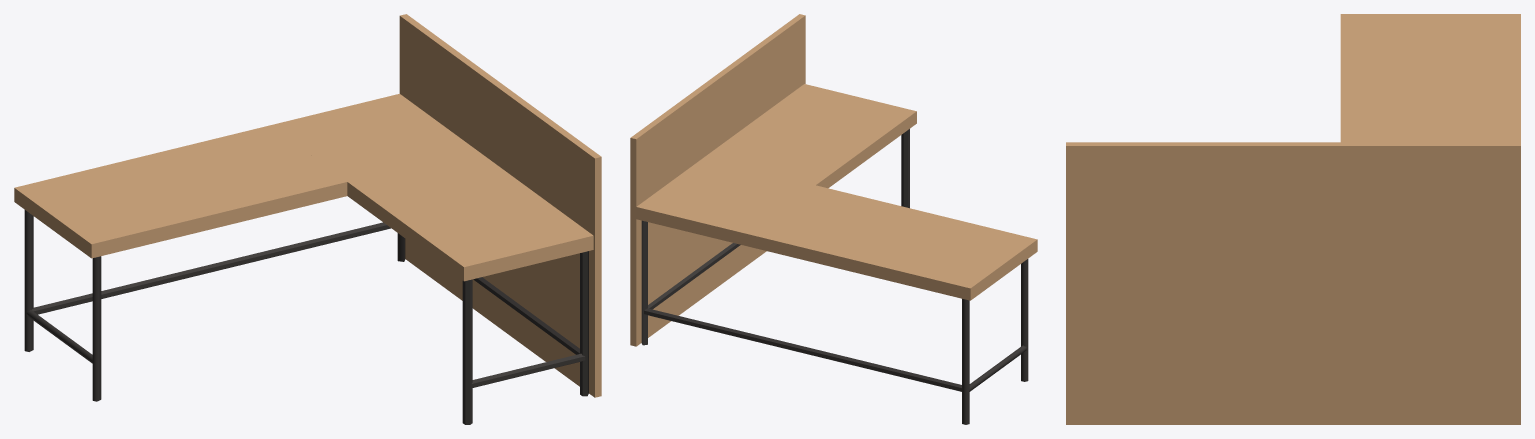
Rendered from desk4.FBX.
The picture shows the model from 3 angles, left to right: view 1: azimuth 30°, elevation 25°; view 2: azimuth 150°, elevation 25°; view 3: azimuth 270°, elevation 25°; orthographic projection. The views are drawn at different scales.
Visible parts, largest first — view 1: desk4, desk4_patition; view 2: desk4, desk4_patition; view 3: desk4_patition, desk4.
Part boxes in pixels (x1,y1,x2,y2): desk4: (14,93,593,424); desk4_patition: (399,14,601,397); desk4: (636,84,1037,424); desk4_patition: (630,14,805,346); desk4_patition: (1066,142,1520,424); desk4: (1340,14,1520,142).
Size of the model in its own units: 193 by 113 by 166.
Materials: 1 (1 with a texture image).
